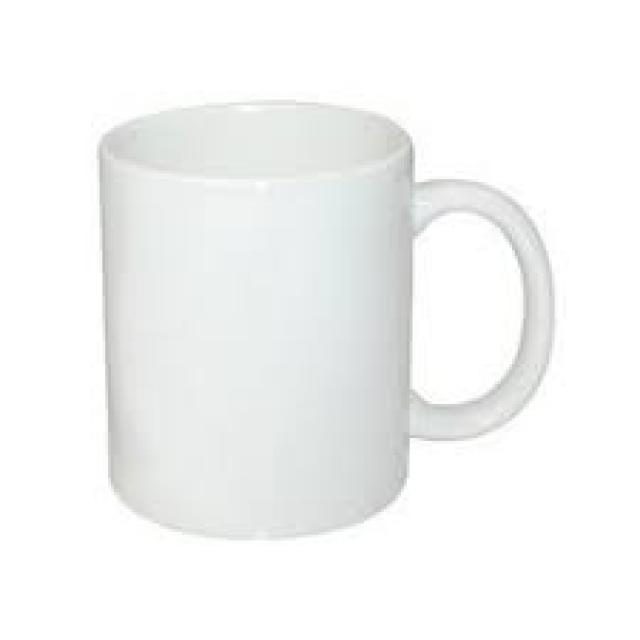Coffee Mug: (97, 98, 554, 541)
